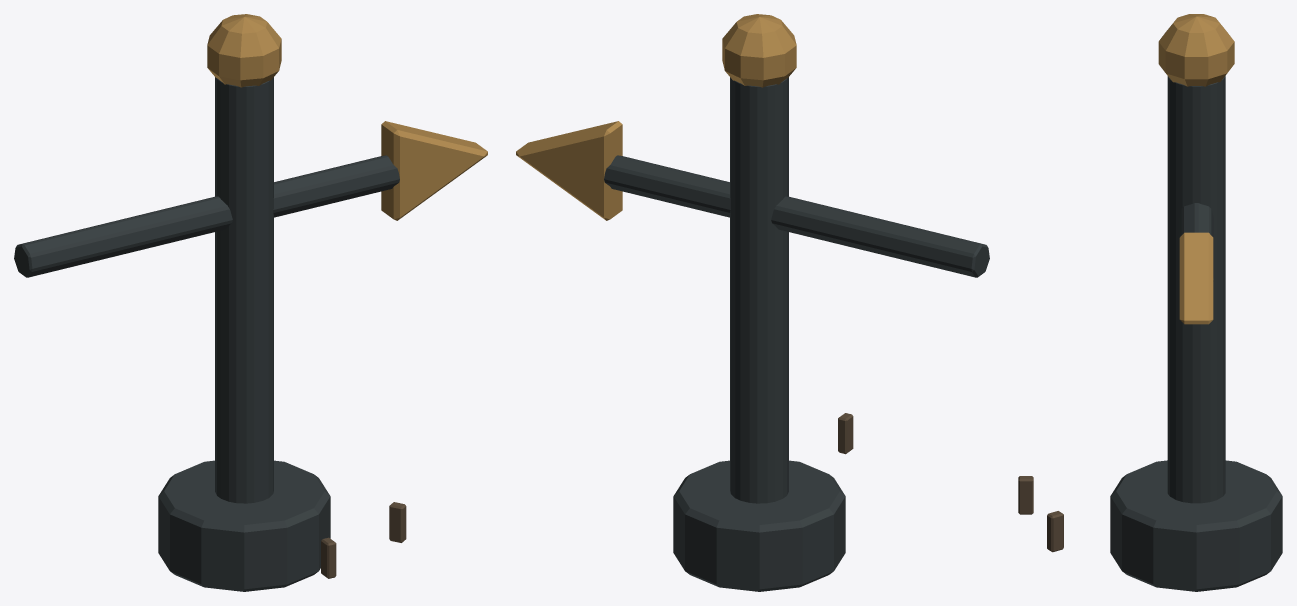
The model's file is runtime.glb.
The picture shows the model from 3 angles, left to right: view 1: azimuth 30°, elevation 25°; view 2: azimuth 150°, elevation 25°; view 3: azimuth 270°, elevation 25°; orthographic projection.
Visible parts, largest first — view 1: eiffel-historic-information-v02_nocol; view 2: eiffel-historic-information-v02_nocol; view 3: eiffel-historic-information-v02_nocol.
Part boxes in pixels (x1=…): eiffel-historic-information-v02_nocol: x1=14, y1=14, x2=487, y2=591; eiffel-historic-information-v02_nocol: x1=516, y1=14, x2=989, y2=591; eiffel-historic-information-v02_nocol: x1=1018, y1=14, x2=1282, y2=591.
Size of the model in its own units: 1.73 by 1.94 by 0.8595.
